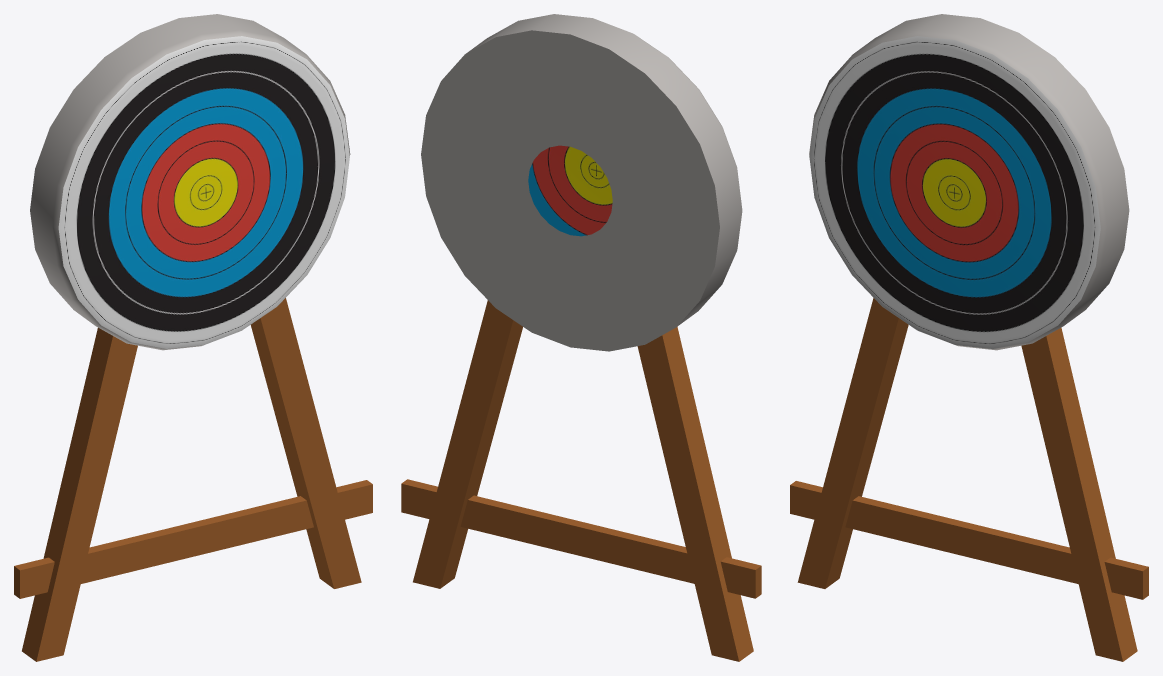
Rendered from Target.fbx.
3 views of the same model, side by side, from view 1: azimuth 30°, elevation 25°; view 2: azimuth 150°, elevation 25°; view 3: azimuth 330°, elevation 25° (orthographic).
Visible parts, largest first — view 1: pCylinder1, pCube1, pCube2, pCube3; view 2: pCylinder1, pCube1, pCube2, pCube3; view 3: pCylinder1, pCube2, pCube1, pCube3.
Boxes of the visible parts, x1=… form: pCylinder1: x1=30, y1=14, x2=350, y2=350; pCube1: x1=22, y1=327, x2=137, y2=661; pCube2: x1=251, y1=298, x2=361, y2=588; pCube3: x1=14, y1=480, x2=372, y2=598; pCylinder1: x1=421, y1=14, x2=742, y2=351; pCube1: x1=637, y1=326, x2=753, y2=661; pCube2: x1=413, y1=300, x2=522, y2=588; pCube3: x1=401, y1=479, x2=761, y2=598; pCylinder1: x1=809, y1=14, x2=1129, y2=350; pCube2: x1=1021, y1=327, x2=1137, y2=661; pCube1: x1=797, y1=298, x2=908, y2=588; pCube3: x1=790, y1=481, x2=1148, y2=599.
Size of the model in its own units: 2.37 by 3.78 by 0.3083.
1 material, 1 textured.
